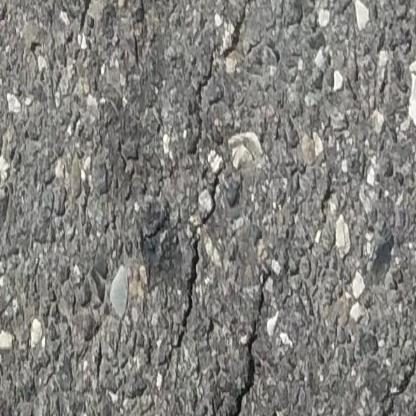Cracks: (167, 166, 227, 359), (219, 277, 270, 416), (221, 0, 266, 65)
